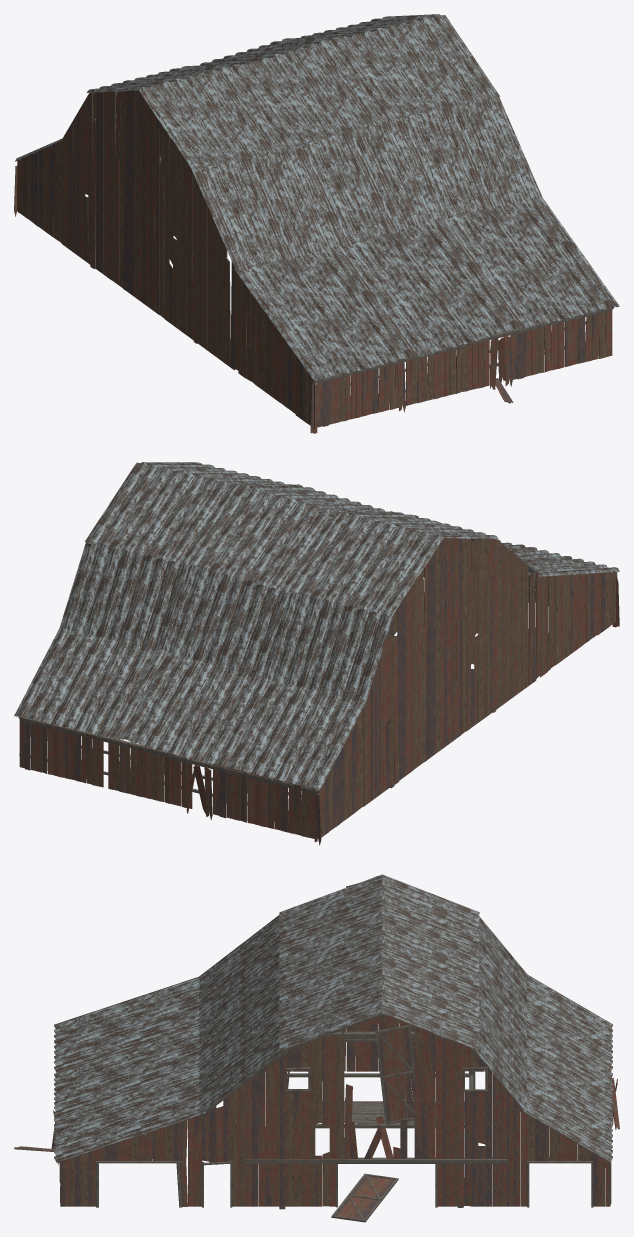
Rendered from barn.glb.
3 renders of one model, top to bottom at view 1: azimuth 30°, elevation 25°; view 2: azimuth 150°, elevation 25°; view 3: azimuth 270°, elevation 25°, orthographic. The views are drawn at different scales.
Parts seen in each view (by area): view 1: SM_MERGED_wall6; view 2: SM_MERGED_wall6; view 3: SM_MERGED_wall6.
Boxes of the visible parts, bbox=[...] form: SM_MERGED_wall6: bbox=[14, 14, 619, 433]; SM_MERGED_wall6: bbox=[14, 462, 619, 845]; SM_MERGED_wall6: bbox=[14, 874, 619, 1222].
Bounding box in the file's own units: 1537 × 968 × 2586.
Materials: 1 (1 with a texture image).
